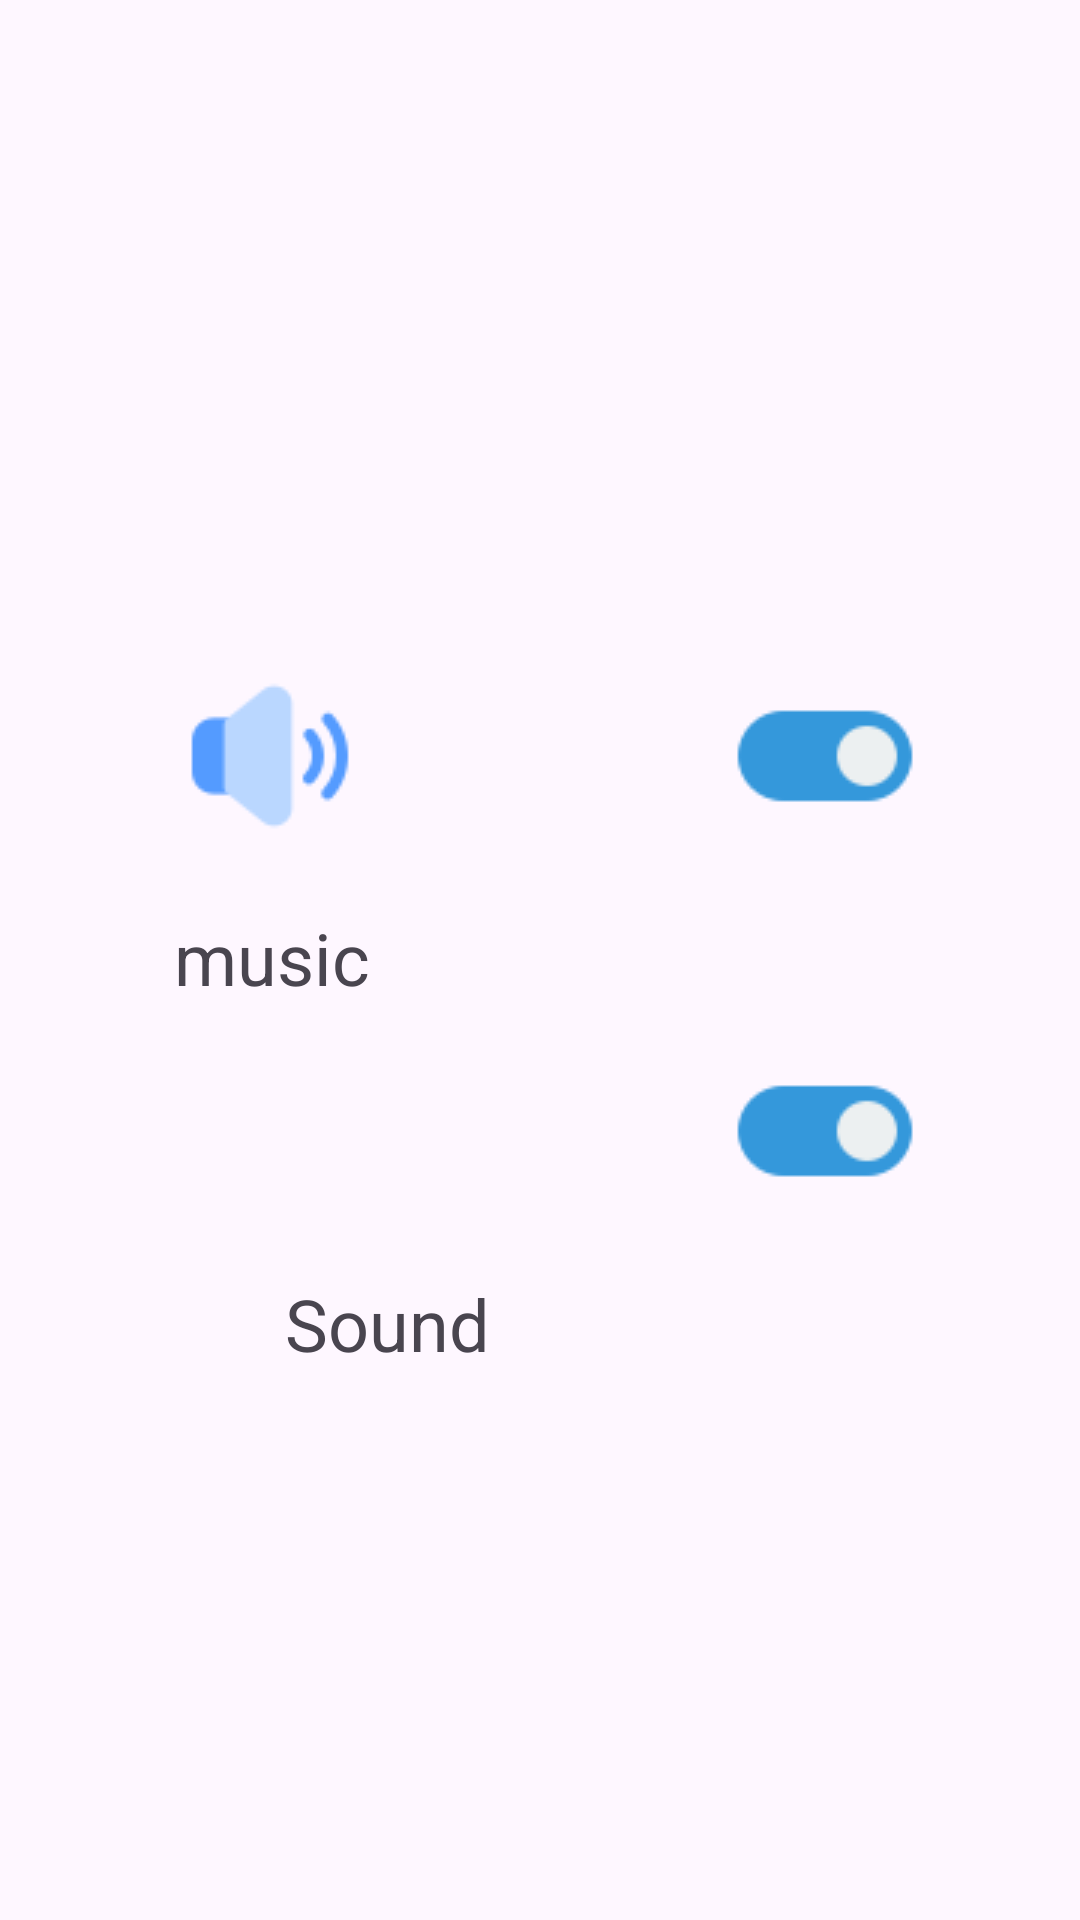

Locate icon controls on the screen. Image size 1080px x 1920px, boxes as {"left": x1, "top": y1, "right": x2, "bottom": y2}.
togglebutton: {"left": 737, "top": 710, "right": 913, "bottom": 802}, {"left": 737, "top": 1085, "right": 913, "bottom": 1177}
vol: {"left": 191, "top": 686, "right": 349, "bottom": 826}
